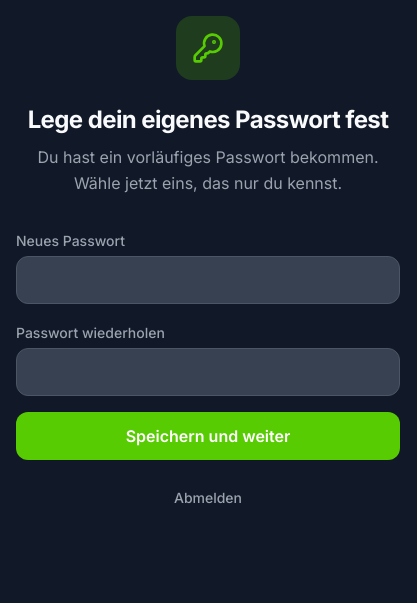
Pflicht-Seite „Neues Passwort festlegen“ (PROJ-58) › zeigt die Meldung der Schnittstelle, z. B. bei wiederverwendetem Passwort
Type "Hafen-Kran-Birke-47" into the password field labelled "Neues Passwort" at (208, 280), box [16,256,400,304]
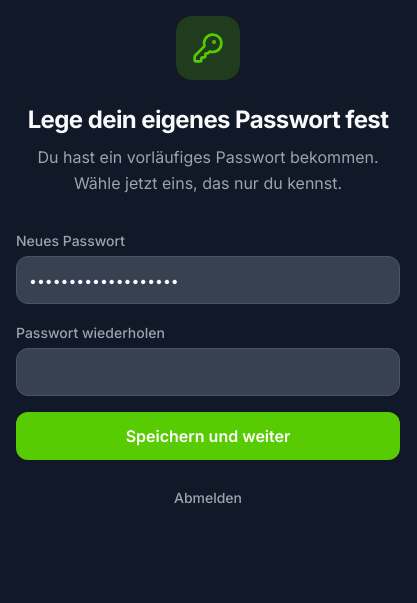
Type "Hafen-Kran-Birke-47" into the password field labelled "Passwort wiederholen" at (208, 372), box [16,348,400,396]
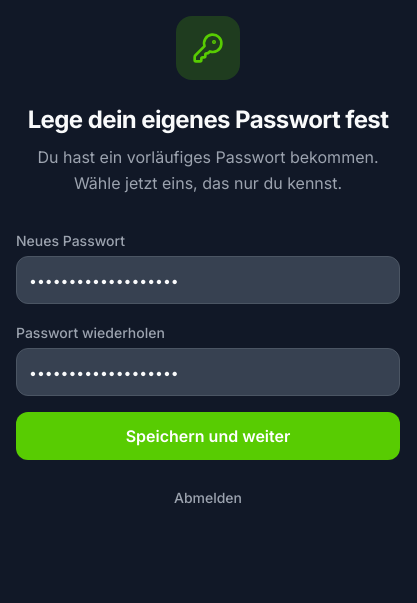
Click the button "Speichern und weiter" at (208, 436), box [16,412,400,460]
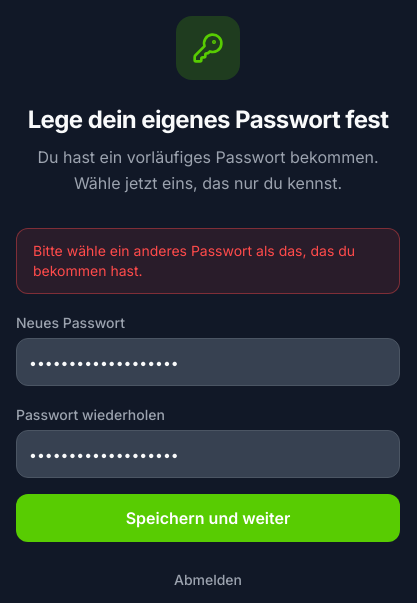
Now the message shows "anderes Passwort", box [33,242,355,279]
